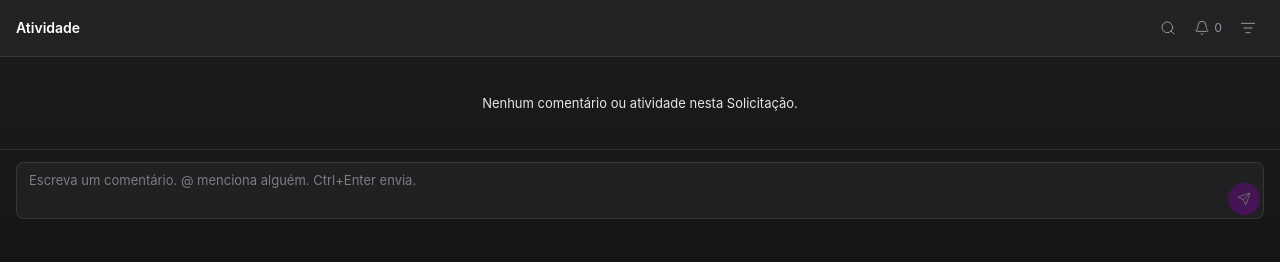
Scenario: Timeline — rascunho preservado durante o envio e no erro (h) › o texto permanece enquanto envia; em erro, permanece e a mensagem aparece junto ao compositor
In the text box with placeholder "Escreva um comentário. @ menciona alguém. Ctrl+Enter envia.": (640, 190) 16,162 -> 1264,219, type "Rascunho importante"
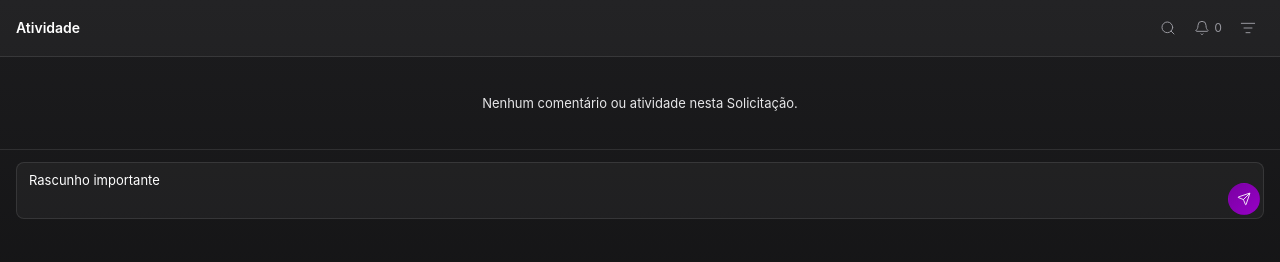
Press Enter in the text box with placeholder "Escreva um comentário. @ menciona alguém. Ctrl+Enter envia.", box 16,162 -> 1264,219
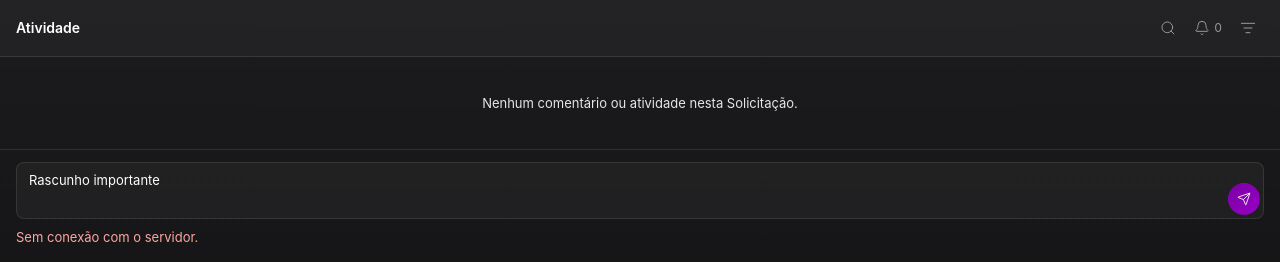
Expected: the text "Sem conexão com o servidor." is shown, 16,229 -> 198,245
